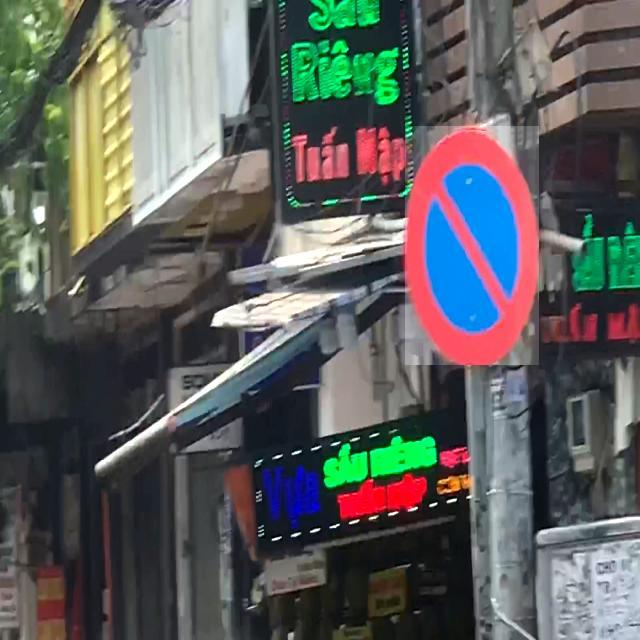P-131a: (405, 126, 539, 365)
